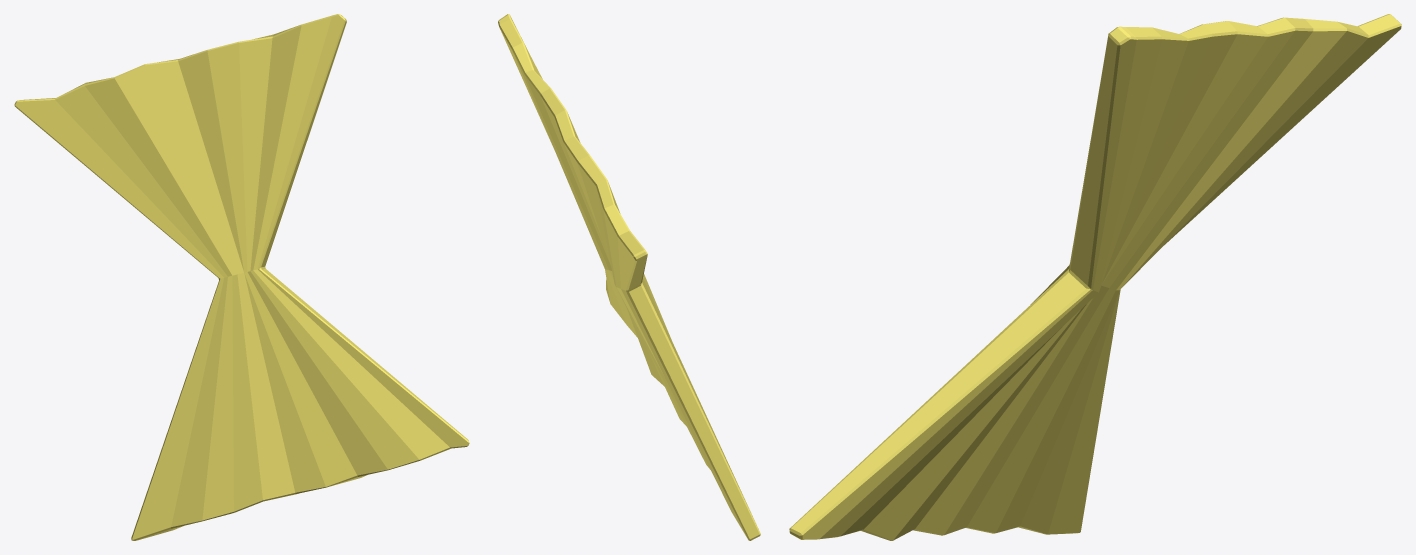
3 views of the same model, side by side, from view 1: azimuth 30°, elevation 25°; view 2: azimuth 150°, elevation 25°; view 3: azimuth 270°, elevation 25° (orthographic). The views are drawn at different scales.
Visible parts, largest first — view 1: Plane.010; view 2: Plane.010; view 3: Plane.010.
Boxes of the visible parts, x1,y1,x2,y2 form: Plane.010: (14,14,469,540); Plane.010: (498,14,760,540); Plane.010: (789,14,1401,540).
Size of the model in its own units: 1.24 by 2.23 by 1.88.
